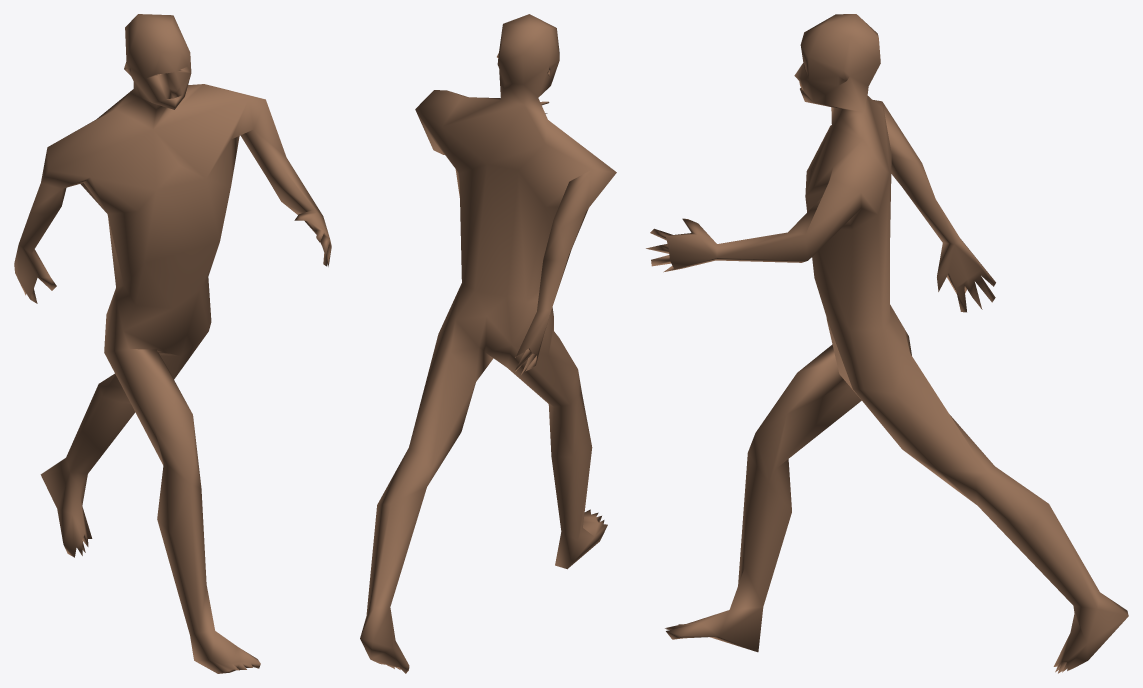
Rendered from obs_000017.obj.
3 renders of one model, left to right at view 1: azimuth 30°, elevation 25°; view 2: azimuth 150°, elevation 25°; view 3: azimuth 270°, elevation 25°, orthographic. The views are drawn at different scales.
Parts seen in each view (by area): view 1: 1-base_1-base.008; view 2: 1-base_1-base.008; view 3: 1-base_1-base.008.
Boxes of the visible parts, bbox=[...] form: 1-base_1-base.008: bbox=[14, 14, 331, 673]; 1-base_1-base.008: bbox=[360, 14, 616, 673]; 1-base_1-base.008: bbox=[646, 14, 1128, 673].
Bounding box in the file's own units: 0.4553 × 1.25 × 0.856.
